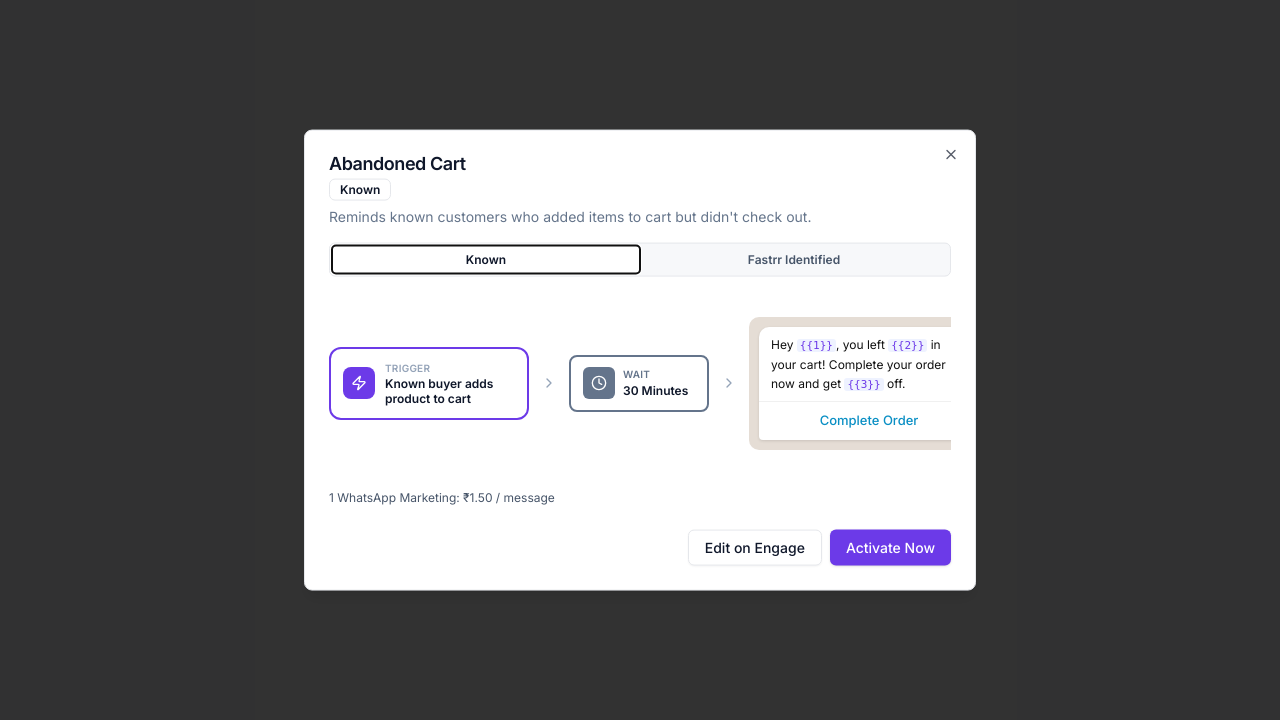
Test case: JourneyPreviewModal › clicking the Identified tab switches the full flow chart to that variant
What coordinates should you click on to do the following:
click the tab with test id "journey-preview-audience-tab-identified"
I would click on:
 (794, 260)
Its box is [640, 246, 948, 274].
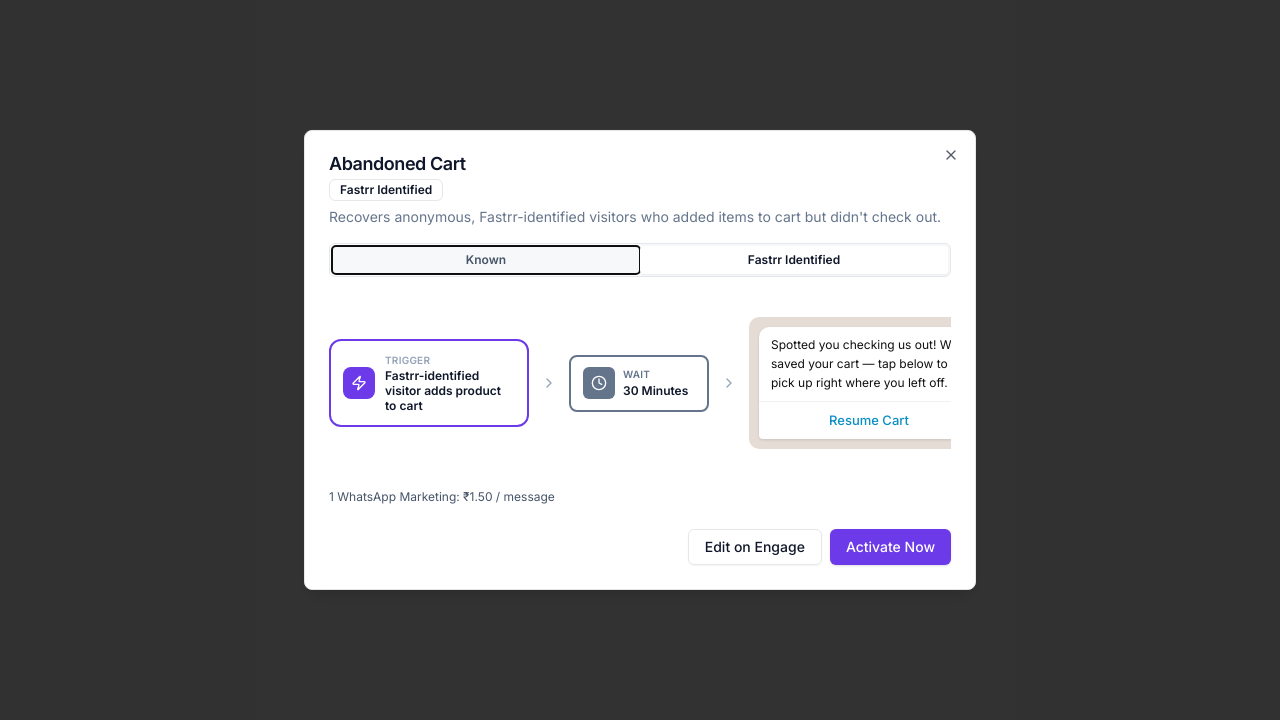
expect the element with test id "preview-trigger-block" shows "Fastrr-identified visitor adds product to cart": met, box [385, 368, 501, 413]
expect the element with test id "preview-whatsapp-block" shows "We saved your cart": met, box [771, 337, 951, 390]
